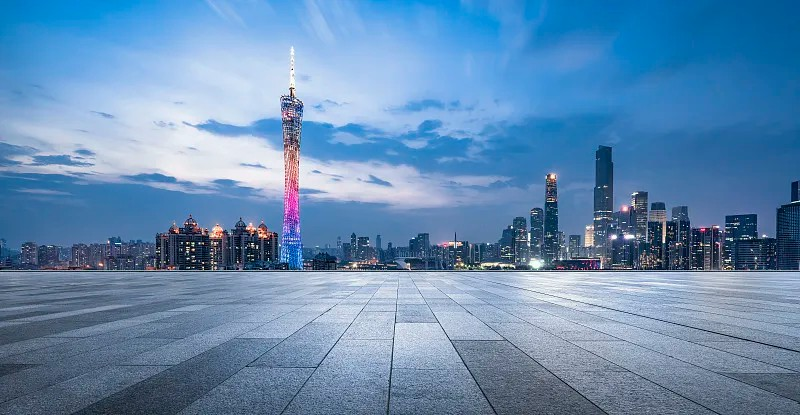Canton: (280, 44, 302, 271)
